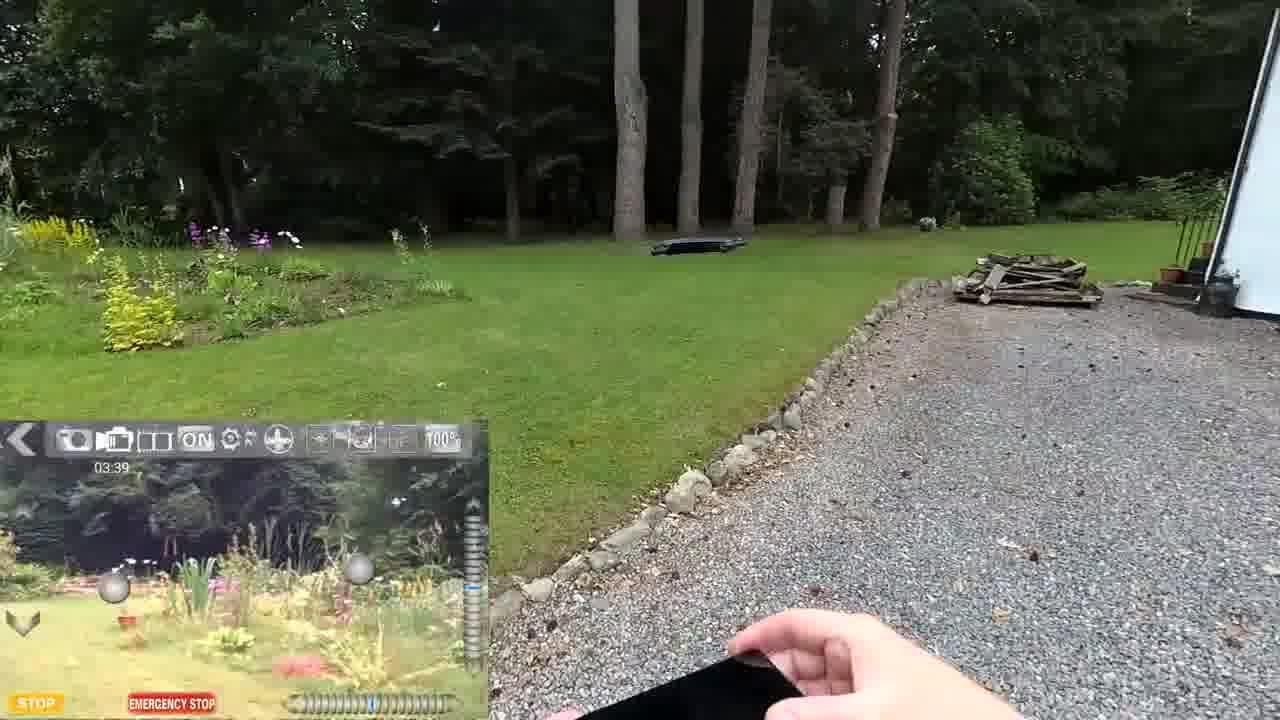drone: (651, 230, 754, 265)
